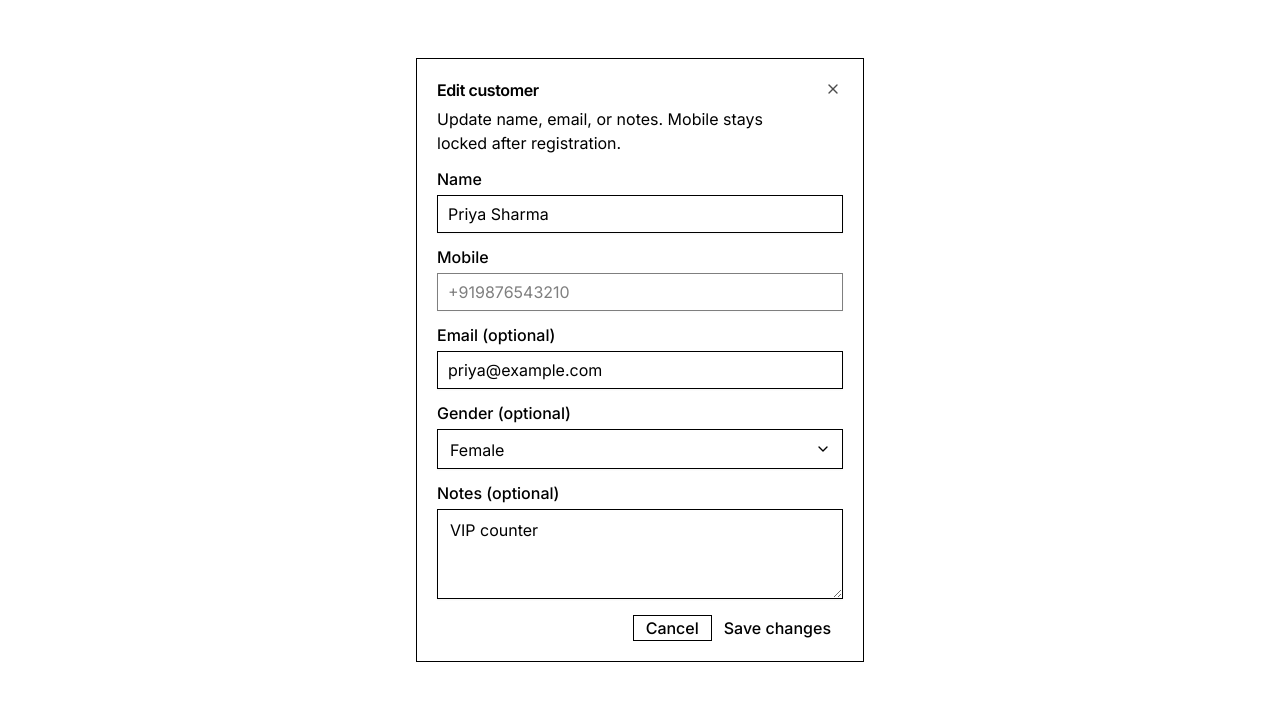
Scenario: PartnerCustomerEditSheet › blocks save when name is cleared
Clear the field with test id "partner-customer-edit-name" at (640,214), box [437,195,843,233]
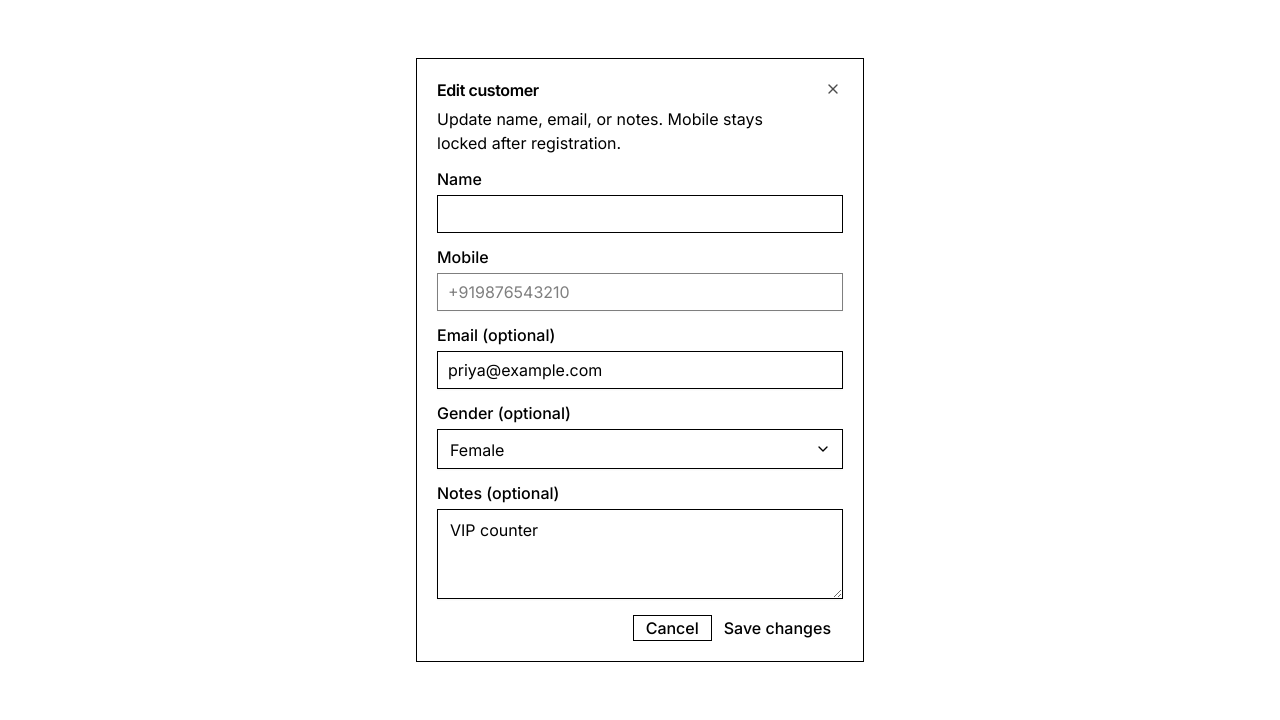
Click the button with test id "partner-customer-edit-save" at (777,628), box [712,615,843,641]
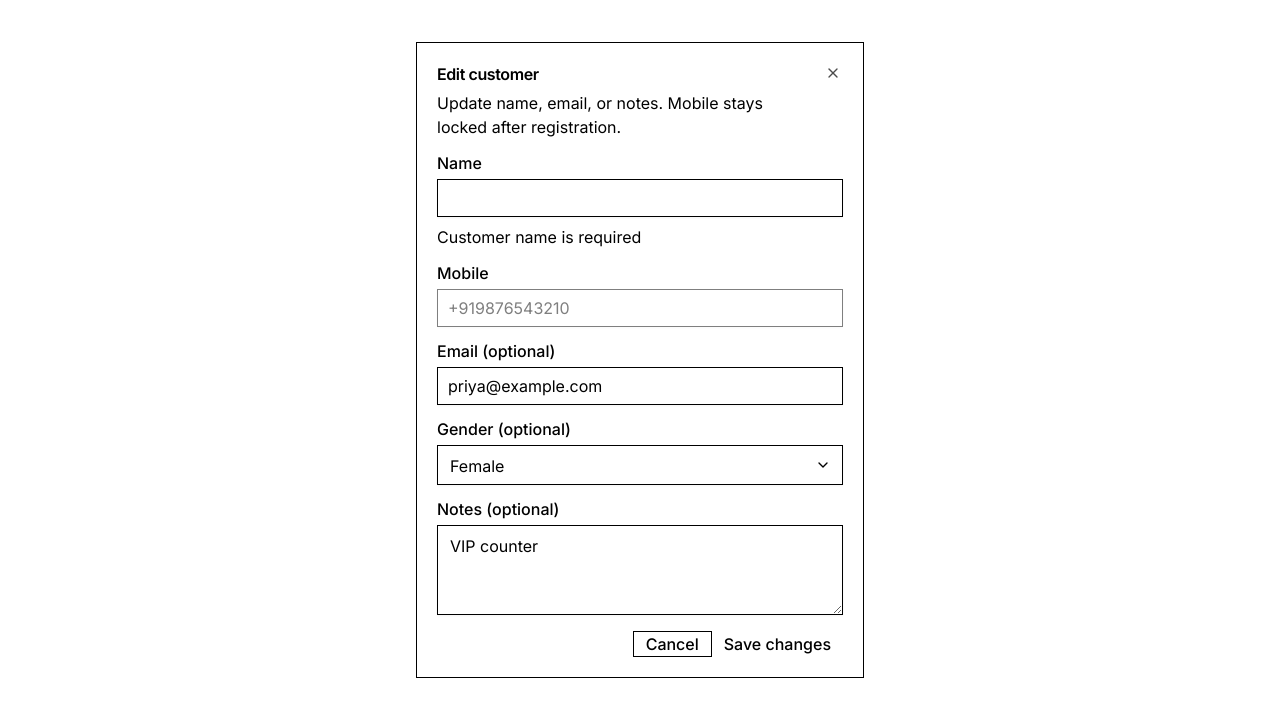
Expected: the message shows "name is required", [437,227,641,247]
